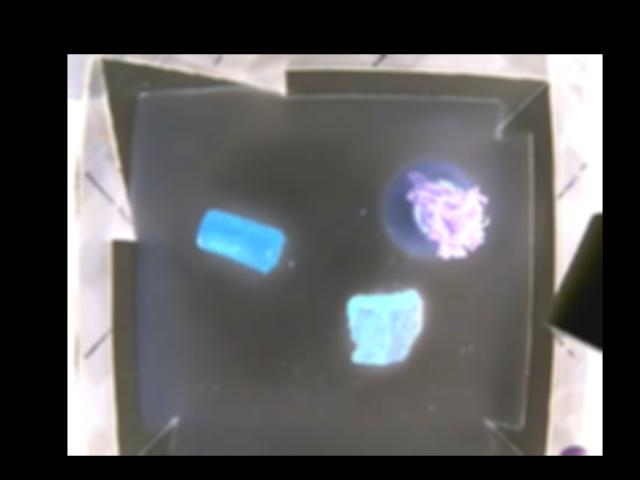Brisk: (350, 285, 424, 366)
Carrot: (196, 209, 281, 270)
Mooli: (380, 158, 490, 261)
